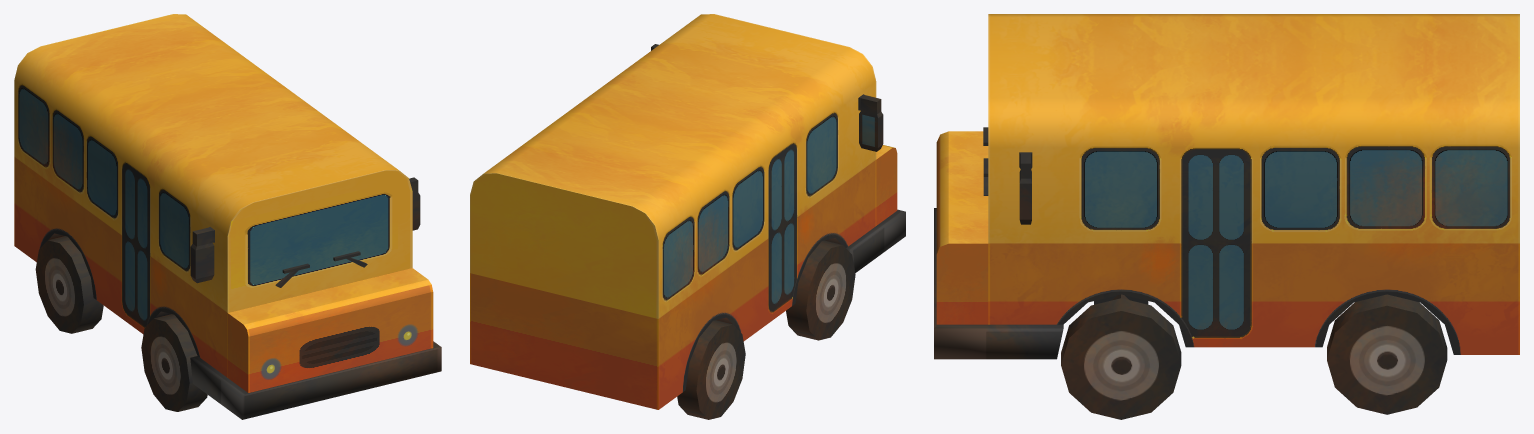
The model's file is CarKit.fbx_Bus.fbx.
3 renders of one model, left to right at view 1: azimuth 30°, elevation 25°; view 2: azimuth 150°, elevation 25°; view 3: azimuth 270°, elevation 25°, orthographic. The views are drawn at different scales.
Parts seen in each view (by area): view 1: Bus; view 2: Bus; view 3: Bus.
Part boxes in pixels (x1,y1,x2,y2): Bus: (14, 14, 441, 419); Bus: (470, 14, 905, 419); Bus: (934, 14, 1519, 419).
Bounding box in the file's own units: 243 × 247 × 441.
1 material, 1 textured.
